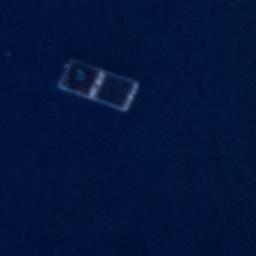square_solid: (54, 56, 106, 103), (89, 69, 142, 115)
